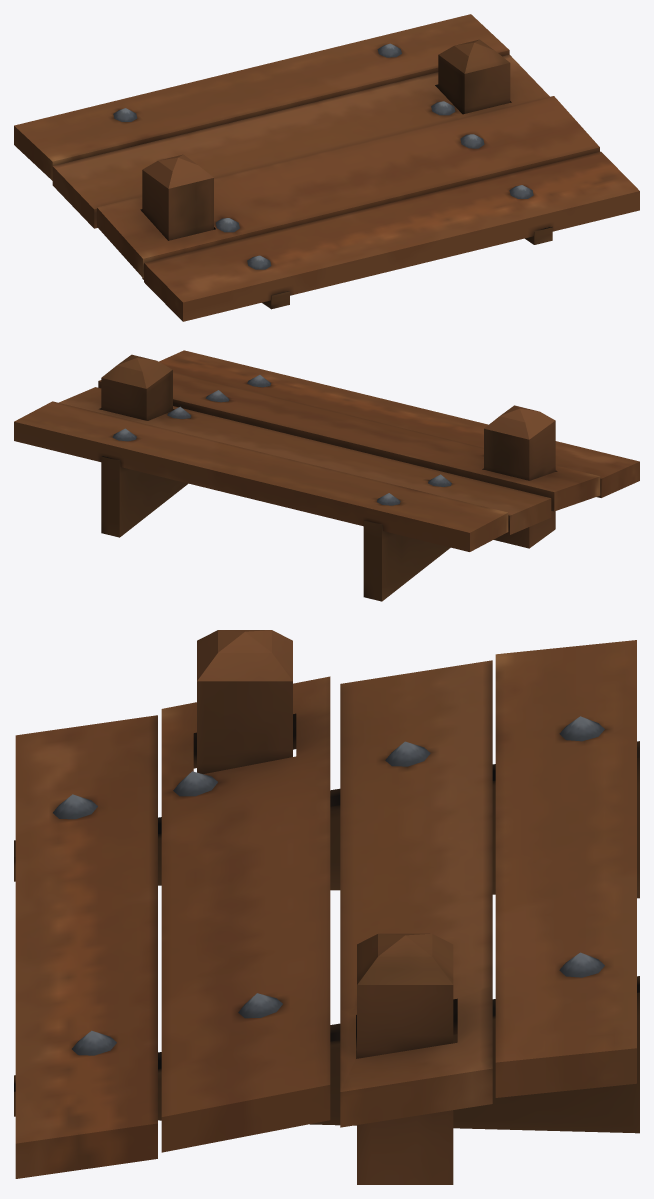
The model's file is 1PAv_Bois-Descente.FBX.
3 renders of one model, top to bottom at view 1: azimuth 30°, elevation 25°; view 2: azimuth 150°, elevation 25°; view 3: azimuth 270°, elevation 25°, orthographic. The views are drawn at different scales.
Visible parts, largest first — view 1: 1PAv_Bois-Descente; view 2: 1PAv_Bois-Descente; view 3: 1PAv_Bois-Descente.
Part boxes in pixels (left/top/right/bottom): 1PAv_Bois-Descente: left=14, top=14, right=639, bottom=321; 1PAv_Bois-Descente: left=14, top=350, right=639, bottom=601; 1PAv_Bois-Descente: left=14, top=630, right=639, bottom=1184.
Size of the model in its own units: 6.18 by 1.62 by 4.
